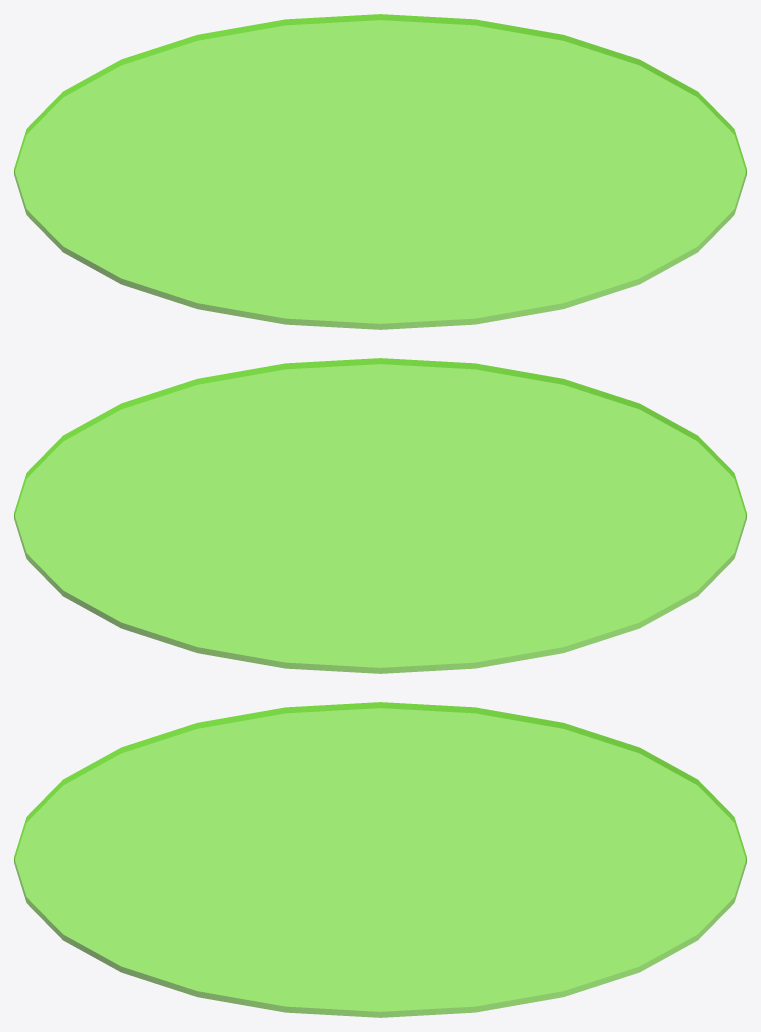
Rendered from original-5.obj.
3 renders of one model, top to bottom at view 1: azimuth 30°, elevation 25°; view 2: azimuth 150°, elevation 25°; view 3: azimuth 270°, elevation 25°, orthographic.
Parts seen in each view (by area): view 1: #ID222; view 2: #ID222; view 3: #ID222.
Part boxes in pixels (x1,y1,x2,y2): #ID222: (14,14,746,329); #ID222: (14,358,746,673); #ID222: (14,702,746,1017).
Bounding box in the file's own units: 0.2689 × 0.00244 × 0.2689.
